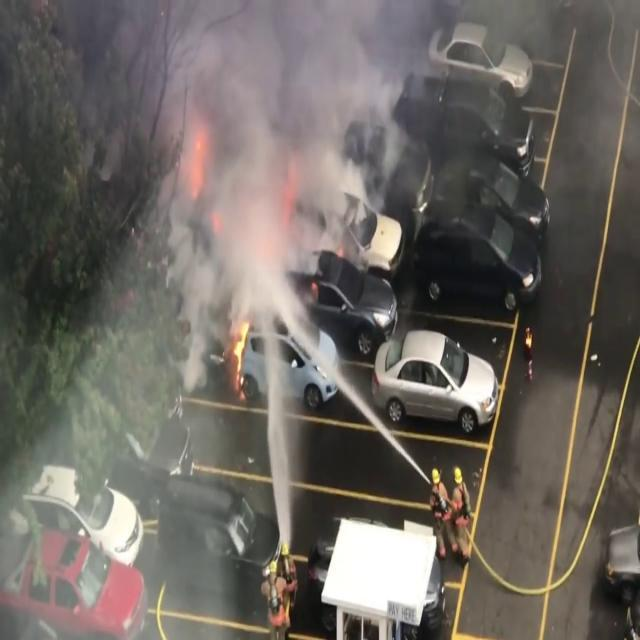Fire: (229, 312, 254, 390)
Smoke: (52, 0, 430, 344)
